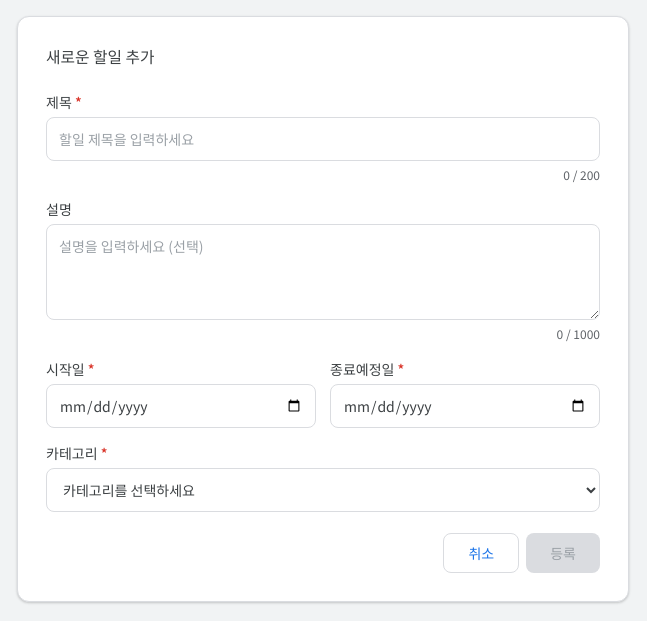
TodoForm › 제목을 입력하면 카운터가 갱신된다
Type "hello" into the field labelled "제목 *" at (323, 139), box x1=46 y1=117 x2=600 y2=161
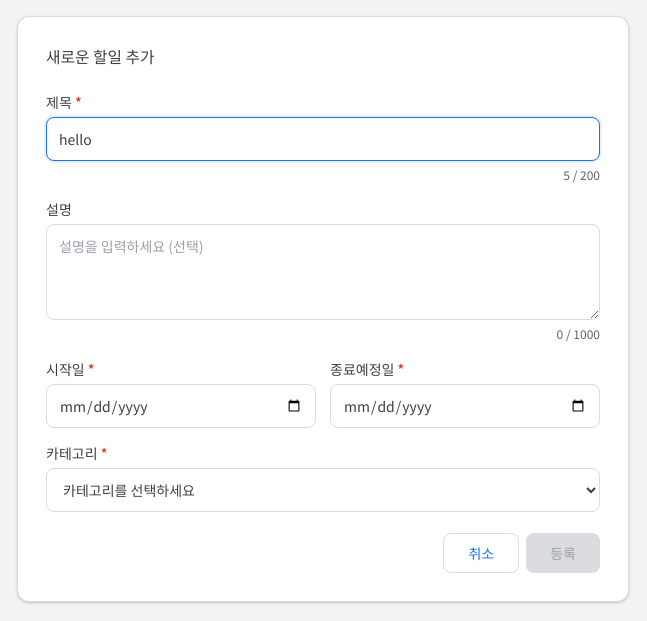
Now the text "5 / 200" is shown, box x1=563 y1=166 x2=600 y2=183
